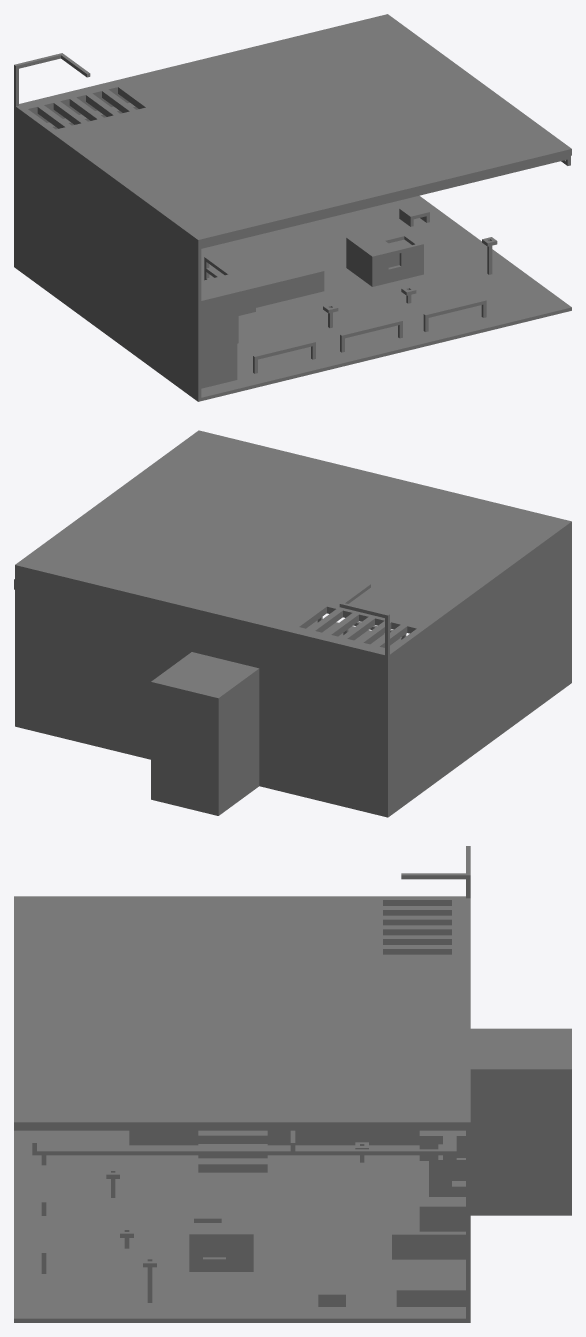
Rendered from room.obj.
3 views of the same model, one above another, from view 1: azimuth 30°, elevation 25°; view 2: azimuth 150°, elevation 25°; view 3: azimuth 270°, elevation 25° (orthographic). The views are drawn at different scales.
Bounding box in the file's own units: 11.8 × 6 × 12.1.
